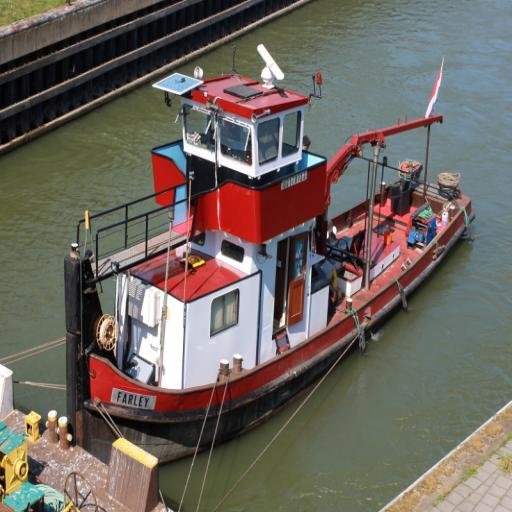tugboat: (60, 41, 480, 486)
